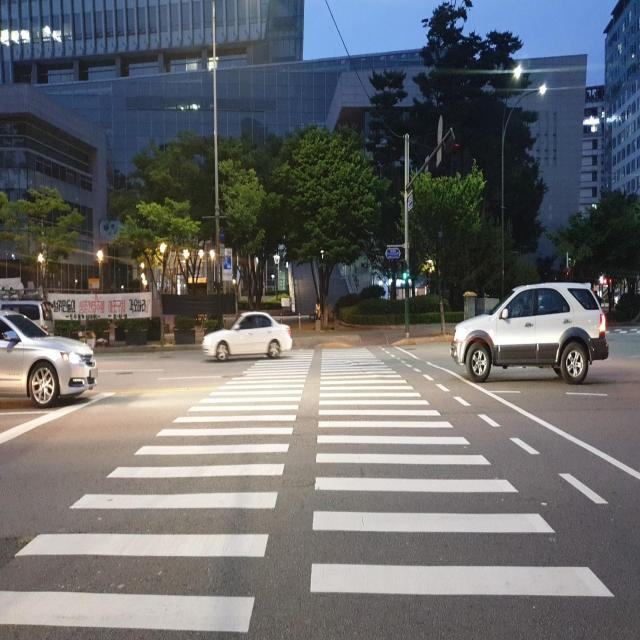횡단보도: (0, 340, 619, 638)
